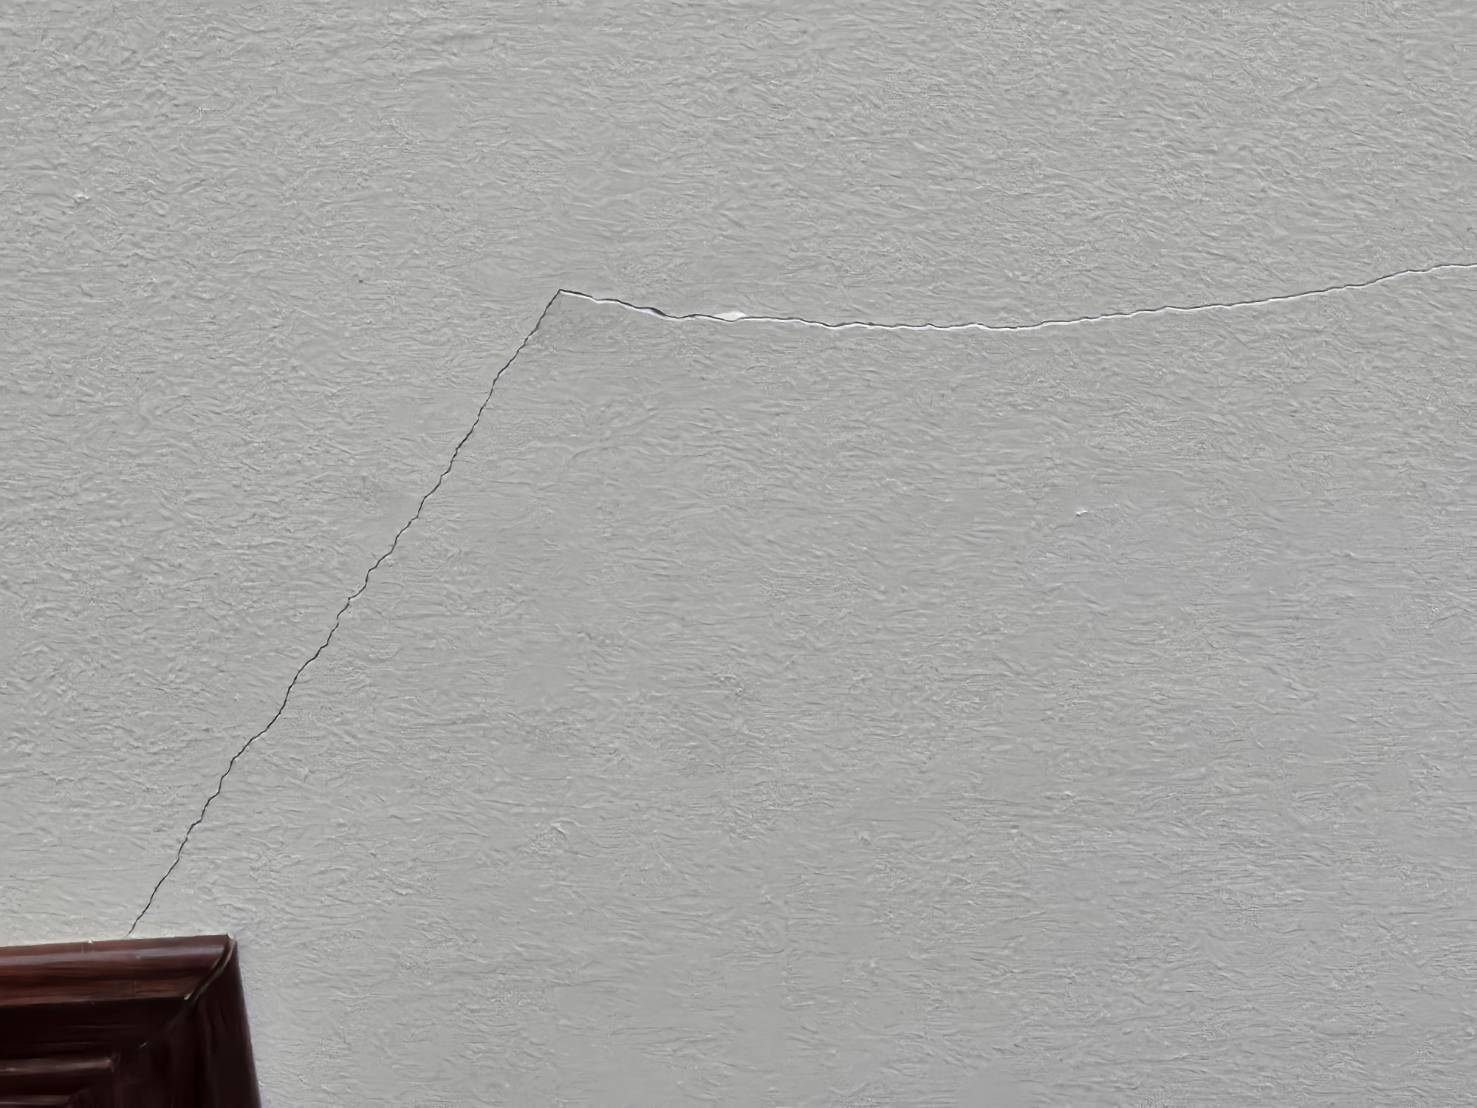Low: (111, 95, 1477, 942)
